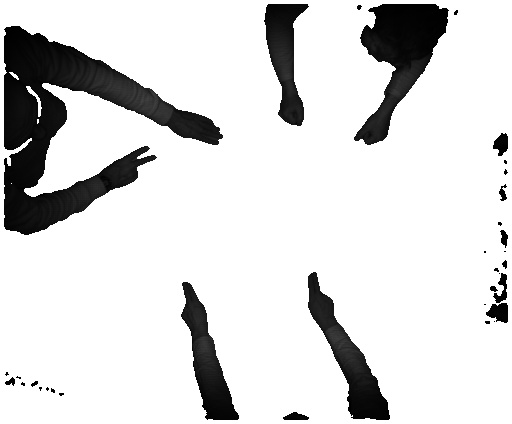fist: (352, 113, 393, 151), (276, 96, 303, 127)
hand: (107, 144, 159, 195), (176, 282, 215, 338), (172, 112, 223, 151), (304, 272, 339, 326)
